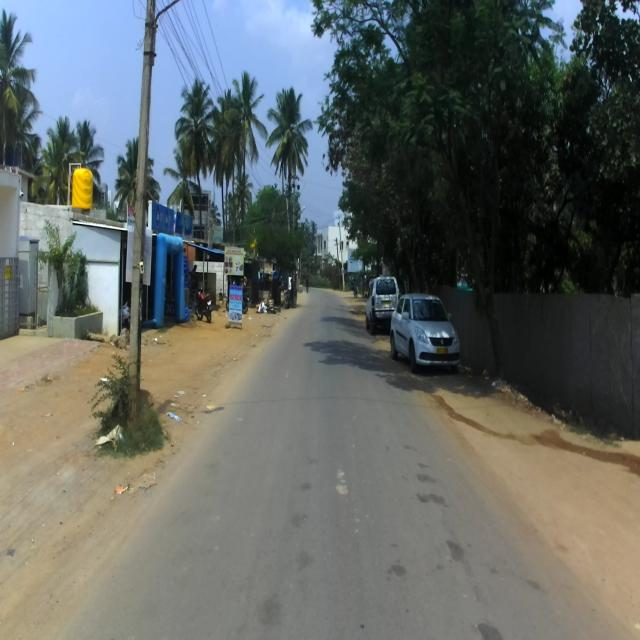car ahead at: (392, 297, 461, 373)
electric pole ahead at: (124, 0, 174, 415)
